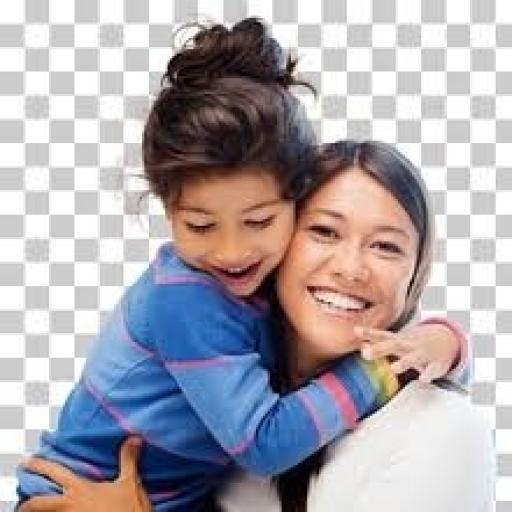hugging: (7, 13, 475, 510)
